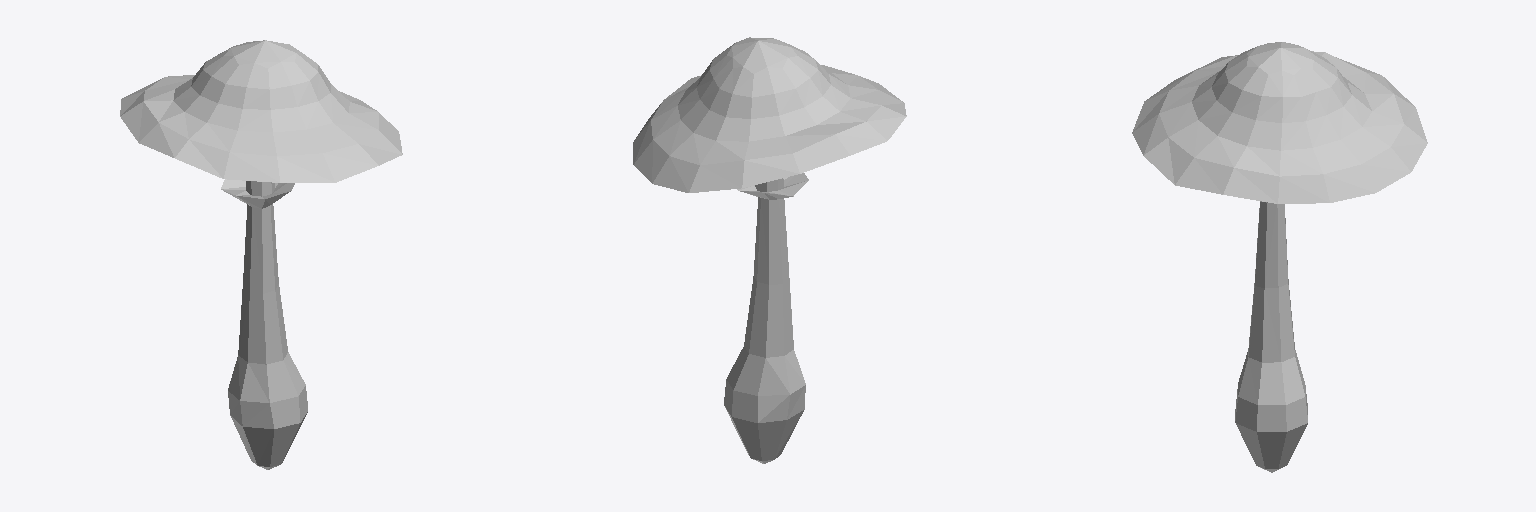
File: mushroom.obj
The picture shows the model from 3 angles: view 1: azimuth 30°, elevation 25°; view 2: azimuth 150°, elevation 25°; view 3: azimuth 270°, elevation 25°; orthographic projection.
Visible parts, largest first — view 1: big_ambrela; view 2: big_ambrela; view 3: big_ambrela.
Boxes of the visible parts, box(x1,y1,x2,y2) form: big_ambrela: box(120, 40, 402, 469); big_ambrela: box(633, 37, 906, 463); big_ambrela: box(1132, 42, 1427, 472).
Bounding box in the file's own units: 1.04 × 1.78 × 1.12.